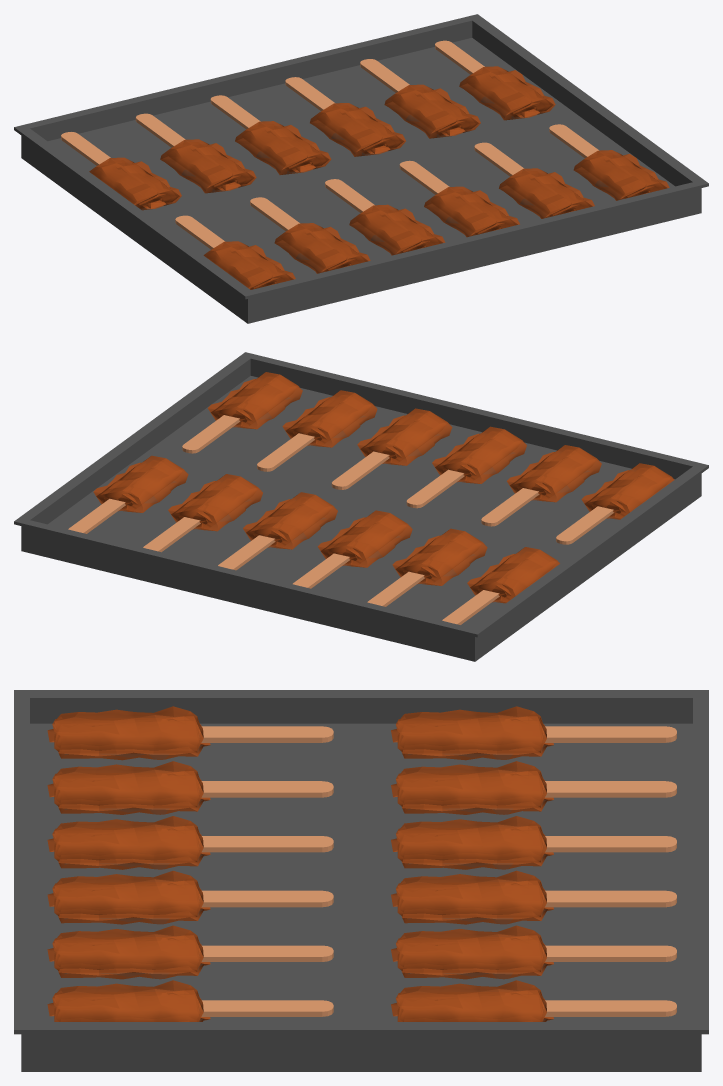
File: TaffyTray_TFSGJ_Spring2025.fbx
The picture shows the model from 3 angles, top to bottom: view 1: azimuth 30°, elevation 25°; view 2: azimuth 150°, elevation 25°; view 3: azimuth 270°, elevation 25°; orthographic projection. The views are drawn at different scales.
Parts seen in each view (by area): view 1: Tray; view 2: Tray; view 3: Tray.
Part boxes in pixels (<box>): Tray: <box>14,14,708,323</box>; Tray: <box>14,352,708,661</box>; Tray: <box>14,690,708,1071</box>.
Bounding box in the file's own units: 46.14 × 3.13 × 39.89.
